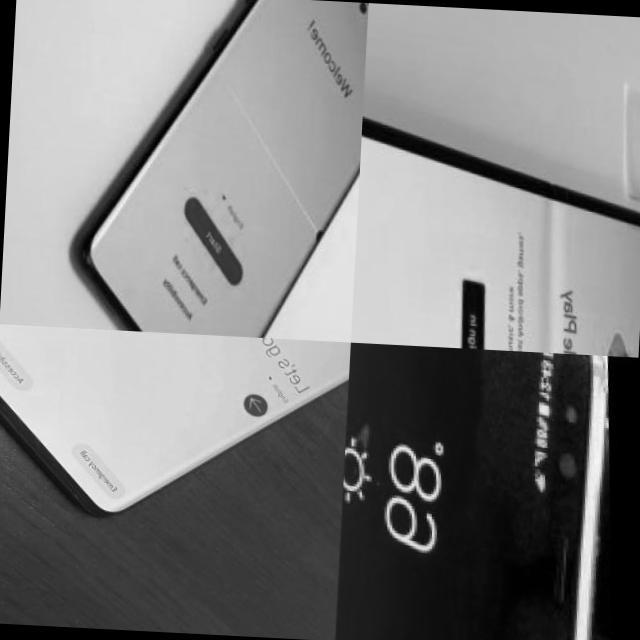dead pixel: (354, 214, 381, 301), (308, 218, 341, 274), (10, 324, 60, 347)
